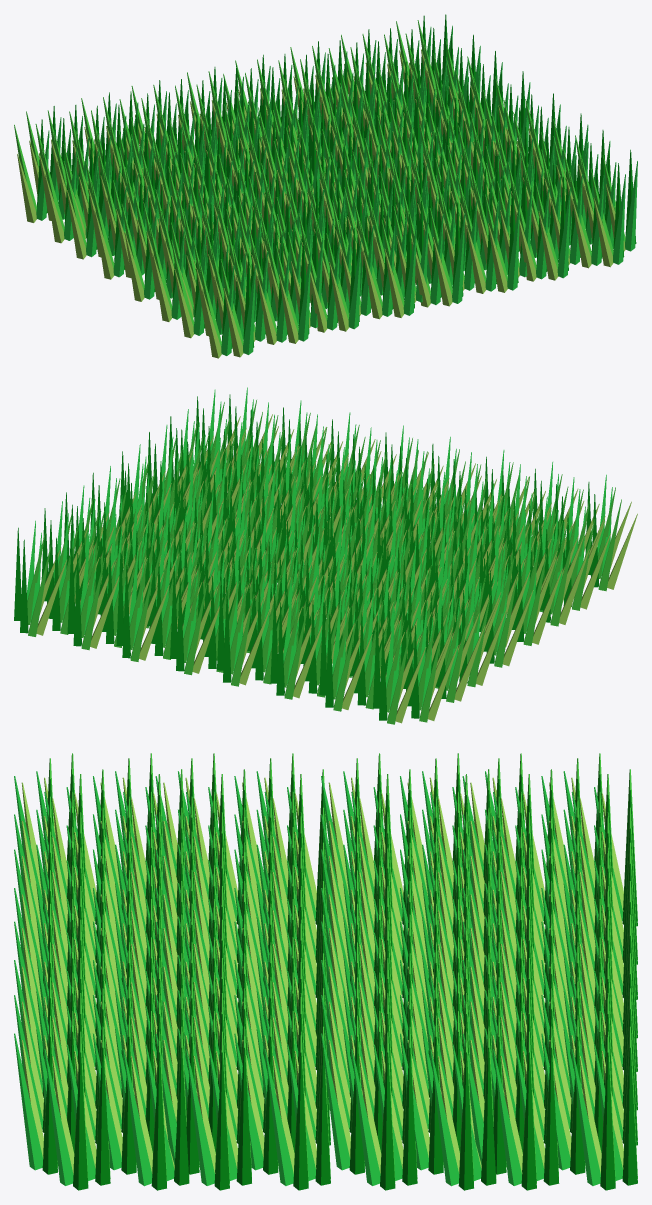
File: Grass_pack.fbx
3 views of the same model, one above another, from view 1: azimuth 30°, elevation 25°; view 2: azimuth 150°, elevation 25°; view 3: azimuth 270°, elevation 25° (orthographic). The views are drawn at different scales.
Parts seen in each view (by area): view 1: Cube.432, Cube.591, Cube.399, Cube.463, Cube.631, Cube.624, Cube.527, Cube.560, Cube.496; view 2: Cube.805, Cube.229, Cube.165, Cube.858, Cube.218, Cube.154, Cube.869, Cube.794, Cube.166, Cube.857, Cube.318, Cube.806 (+10 smaller); view 3: Cube.874, Cube.634, Cube.885, Cube.869, Cube.629, Cube.613, Cube.922, Cube.906, Cube.890, Cube.661, Cube.650, Cube.645 (+38 smaller).
Part boxes in pixels (x1,y1,x2,y2): Cube.432: (348, 238, 361, 329); Cube.591: (557, 187, 570, 278); Cube.399: (403, 225, 416, 315); Cube.463: (243, 264, 255, 354); Cube.631: (625, 161, 637, 251); Cube.624: (613, 174, 625, 264); Cube.527: (507, 200, 520, 290); Cube.560: (452, 213, 464, 303); Cube.496: (298, 251, 310, 341); Cube.805: (176, 578, 184, 671); Cube.229: (325, 614, 333, 707); Cube.165: (276, 602, 284, 695); Cube.858: (73, 553, 81, 646); Cube.218: (379, 627, 387, 720); Cube.154: (223, 589, 231, 682); Cube.869: (20, 539, 28, 633); Cube.794: (122, 564, 130, 658); Cube.166: (284, 607, 307, 699); Cube.857: (81, 558, 104, 650); Cube.318: (550, 534, 573, 626); Cube.806: (184, 583, 207, 675); Cube.874: (600, 1052, 615, 1190); Cube.634: (95, 1047, 110, 1185); Cube.885: (521, 1052, 536, 1190); Cube.869: (622, 1047, 637, 1185); Cube.629: (73, 1052, 88, 1190); Cube.613: (174, 1047, 189, 1185); Cube.922: (481, 1047, 496, 1185); Cube.906: (380, 1052, 395, 1190); Cube.890: (543, 1047, 559, 1185); Cube.661: (293, 1052, 308, 1190); Cube.650: (214, 1052, 229, 1190); Cube.645: (236, 1047, 251, 1185).
Size of the model in its own units: 771 by 167 by 654.
